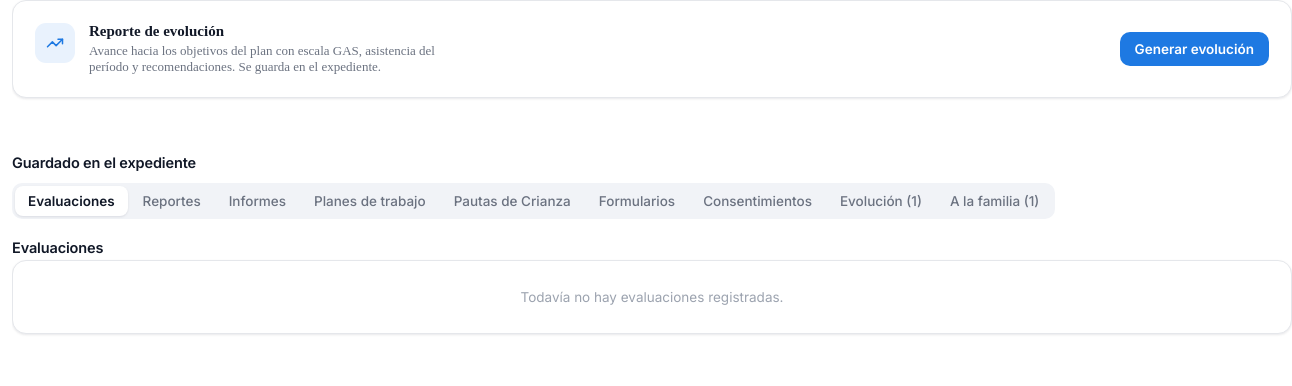
Test: lo generado aparece junto a lo guardado › el reporte para la familia dice que guarda el acuse, no el texto
Click the button "A la familia (1)": x=995, y=201 [937, 186, 1052, 216]
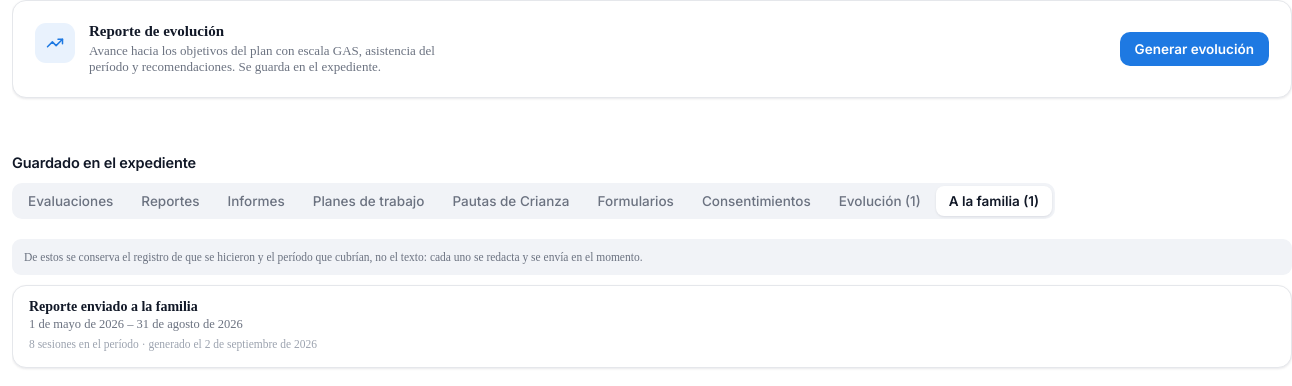
Check: the text "no el texto" is shown, box [24, 251, 642, 263]
Check: the text "8 sesiones" is shown, box [29, 338, 317, 350]
